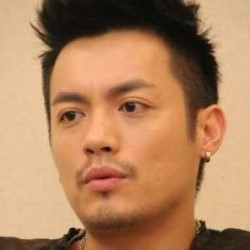unmask: (43, 37, 204, 229)
